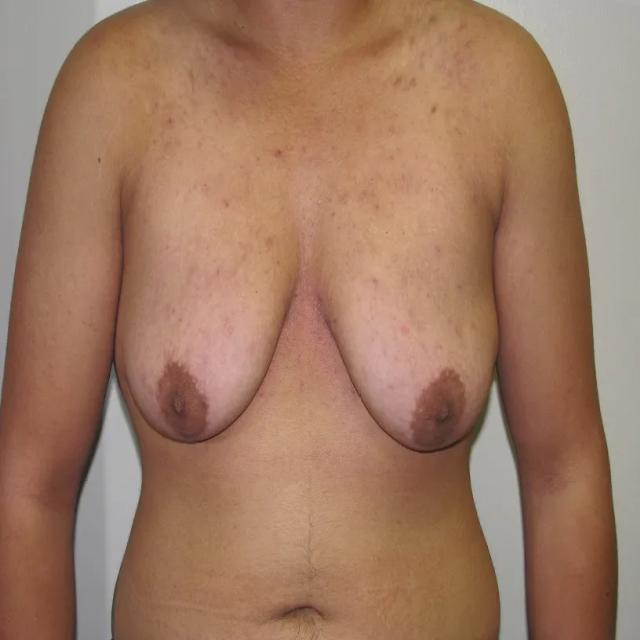Seno ileso: (308, 192, 506, 473), (113, 188, 303, 464)
